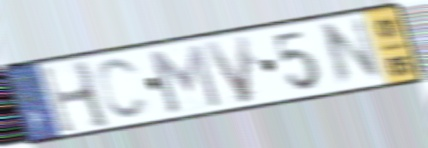5: (272, 27, 324, 94)
C: (93, 55, 152, 121)
H: (37, 58, 115, 137)
M: (143, 41, 225, 115)
N: (318, 14, 386, 91)
V: (200, 32, 254, 107)
